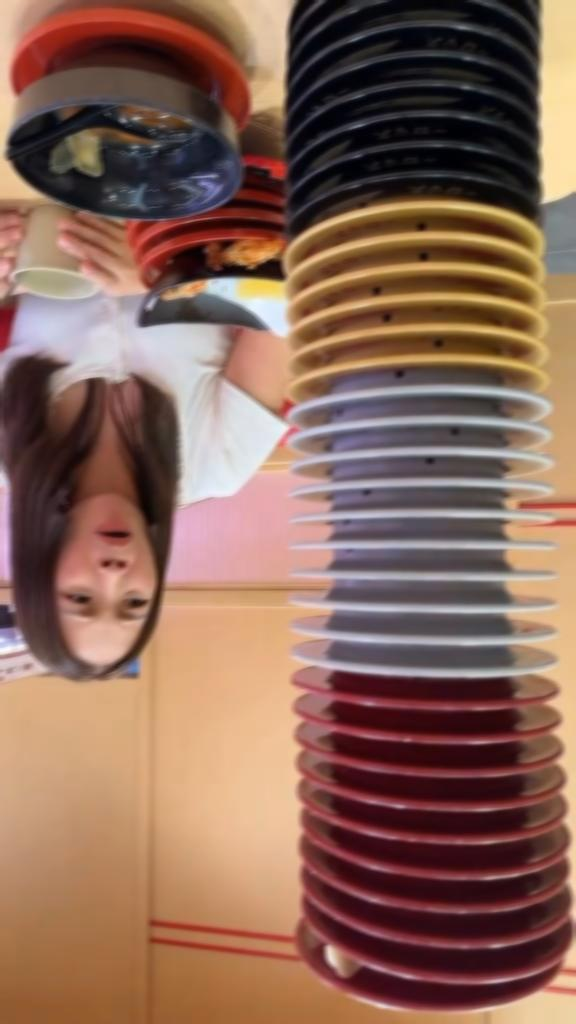Janback: (308, 85, 532, 116), (324, 46, 536, 76), (326, 146, 541, 169), (325, 115, 521, 139), (333, 177, 540, 197), (326, 1, 524, 18), (335, 23, 521, 41)
Jangold: (321, 314, 544, 343), (332, 256, 533, 283), (332, 288, 531, 309), (341, 206, 518, 227), (344, 345, 530, 364), (332, 233, 525, 251)
Janred: (344, 777, 560, 816), (293, 984, 572, 1012), (345, 746, 575, 779), (305, 951, 576, 979), (329, 916, 576, 946), (339, 849, 576, 878), (336, 882, 576, 909), (353, 679, 569, 709), (347, 713, 567, 742), (343, 815, 558, 842)
Janwhite: (324, 554, 563, 583), (315, 648, 573, 674), (315, 527, 547, 554), (328, 408, 564, 434), (322, 468, 553, 494), (317, 497, 555, 519), (316, 591, 569, 610), (336, 374, 505, 401), (319, 623, 576, 639), (325, 439, 551, 457)
